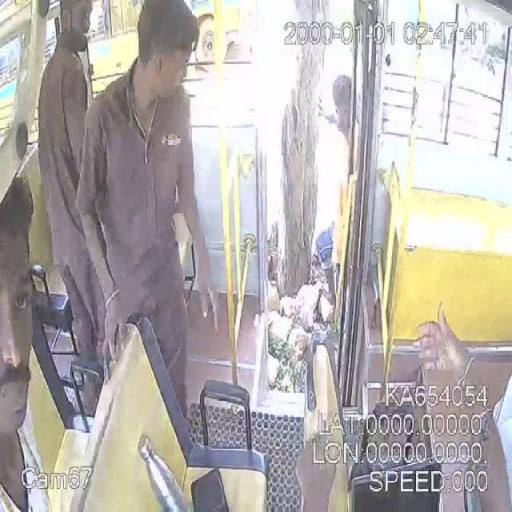persona: (73, 1, 216, 418), (36, 0, 110, 416), (0, 176, 52, 510)
